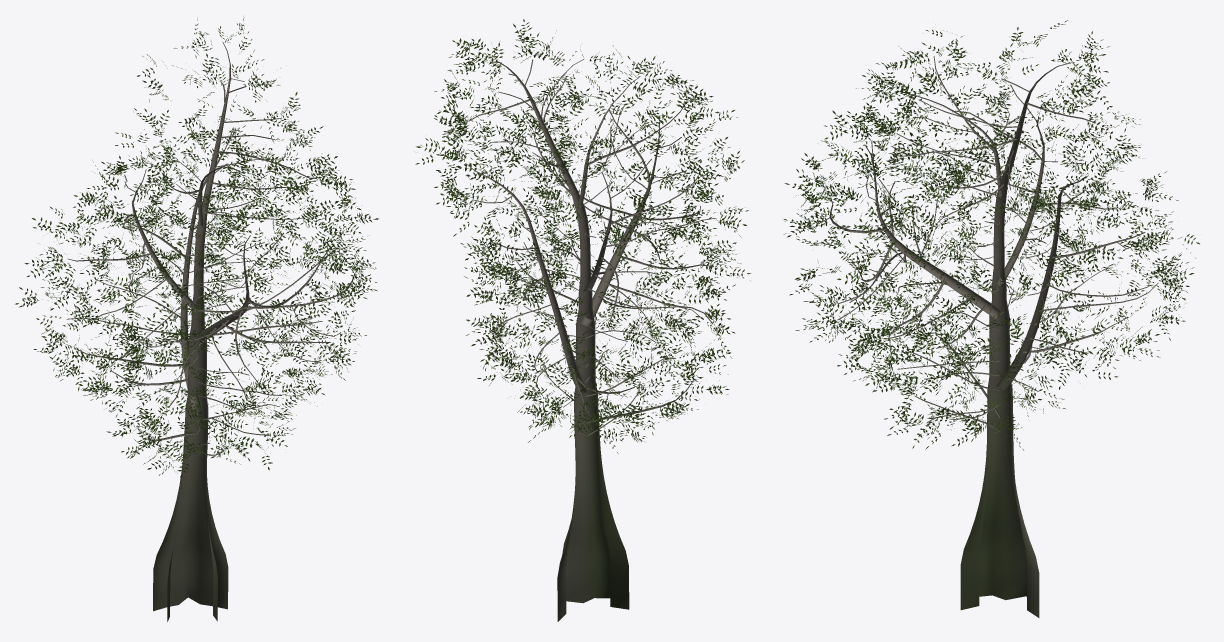
Rendered from SM_Tree_rowan_1.glb.
3 views of the same model, side by side, from view 1: azimuth 30°, elevation 25°; view 2: azimuth 150°, elevation 25°; view 3: azimuth 270°, elevation 25° (orthographic). The views are drawn at different scales.
Visible parts, largest first — view 1: SM_Tree_rowan_1; view 2: SM_Tree_rowan_1; view 3: SM_Tree_rowan_1.
Part boxes in pixels (bbox=[...]): SM_Tree_rowan_1: bbox=[15, 16, 378, 621]; SM_Tree_rowan_1: bbox=[414, 19, 750, 621]; SM_Tree_rowan_1: bbox=[783, 20, 1199, 617].
Bounding box in the file's own units: 4.13 × 8.84 × 5.57.
